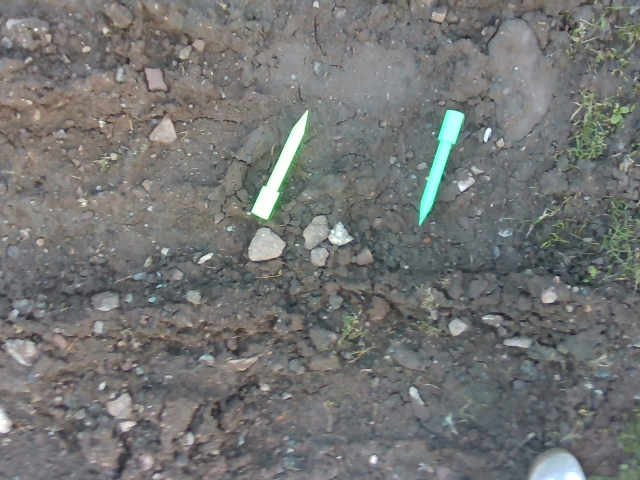Probe: (414, 104, 471, 232), (249, 108, 311, 224)
